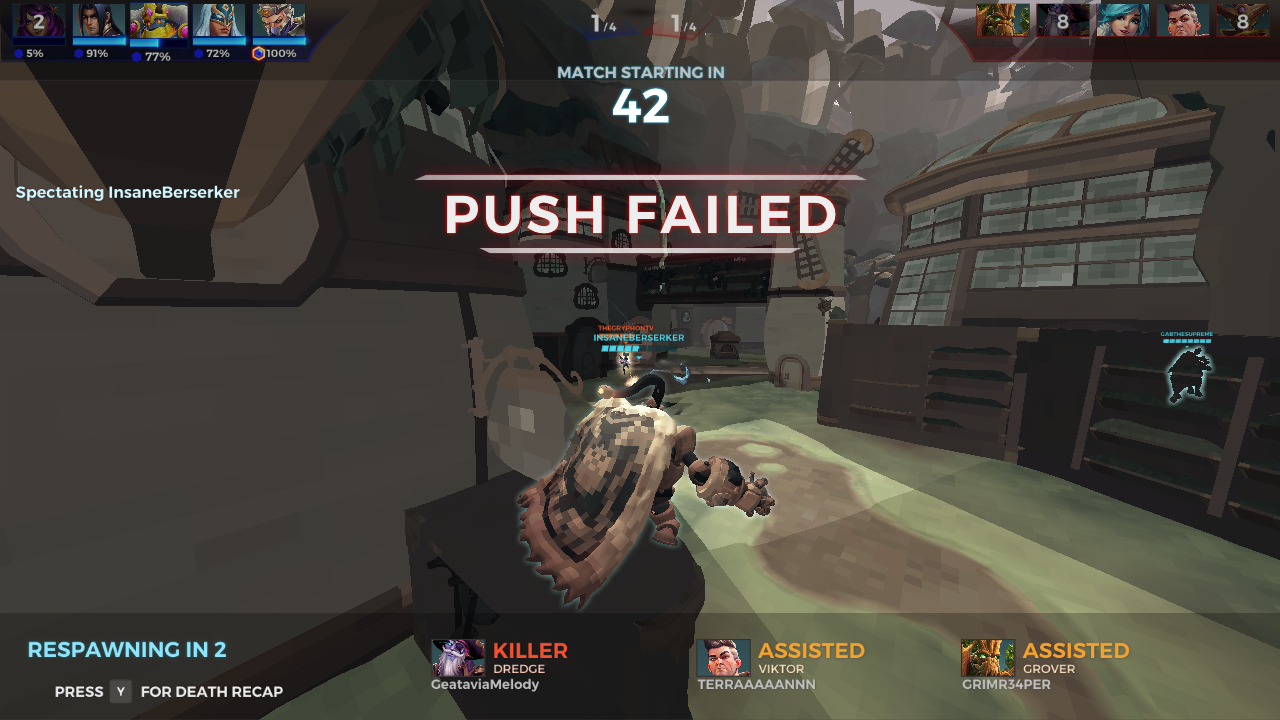model: (617, 349, 632, 378)
